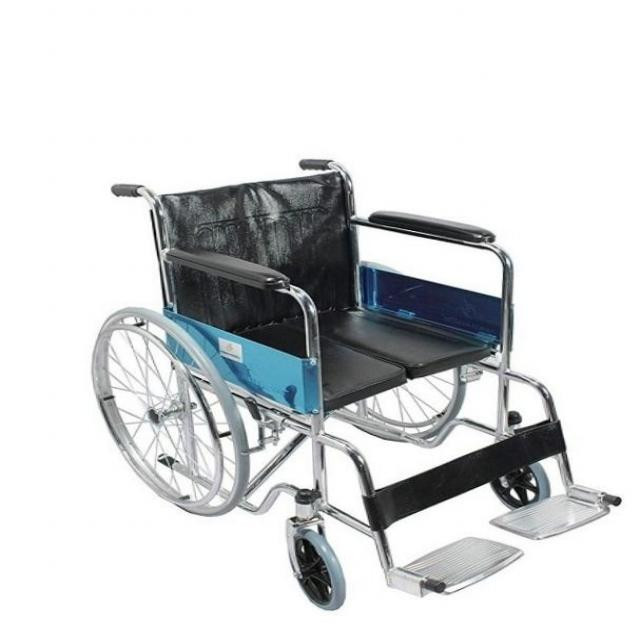wheelchair: (78, 140, 640, 617)
